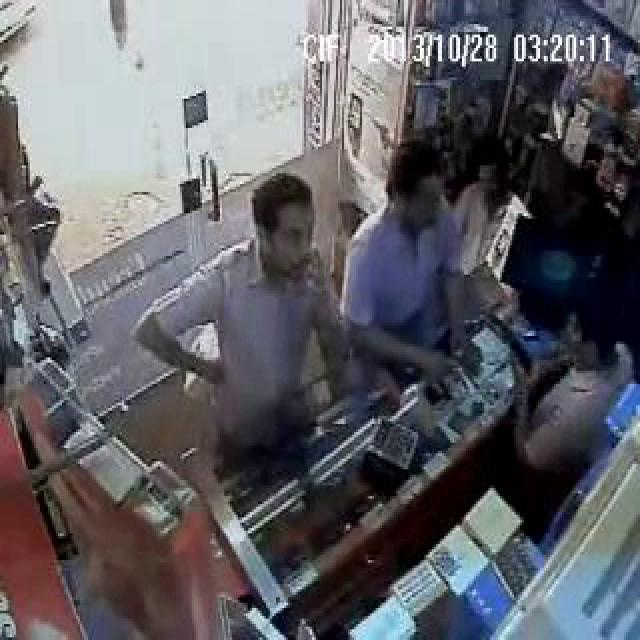shoplifting: (58, 52, 433, 640)
